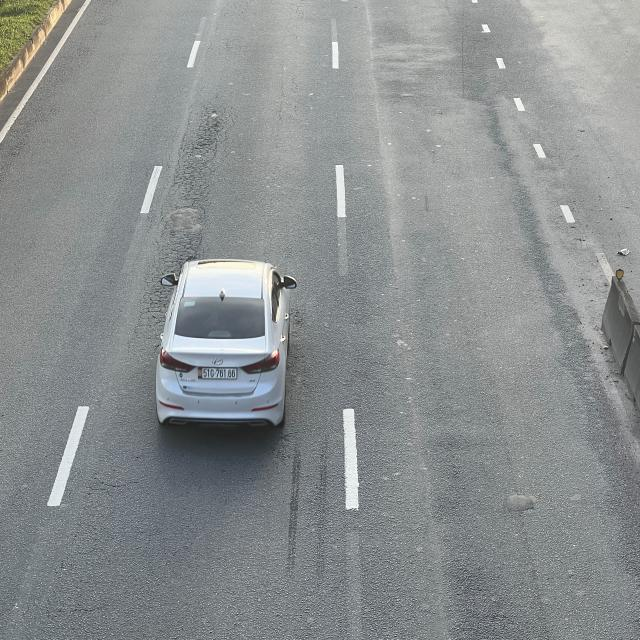car: (157, 257, 300, 433)
